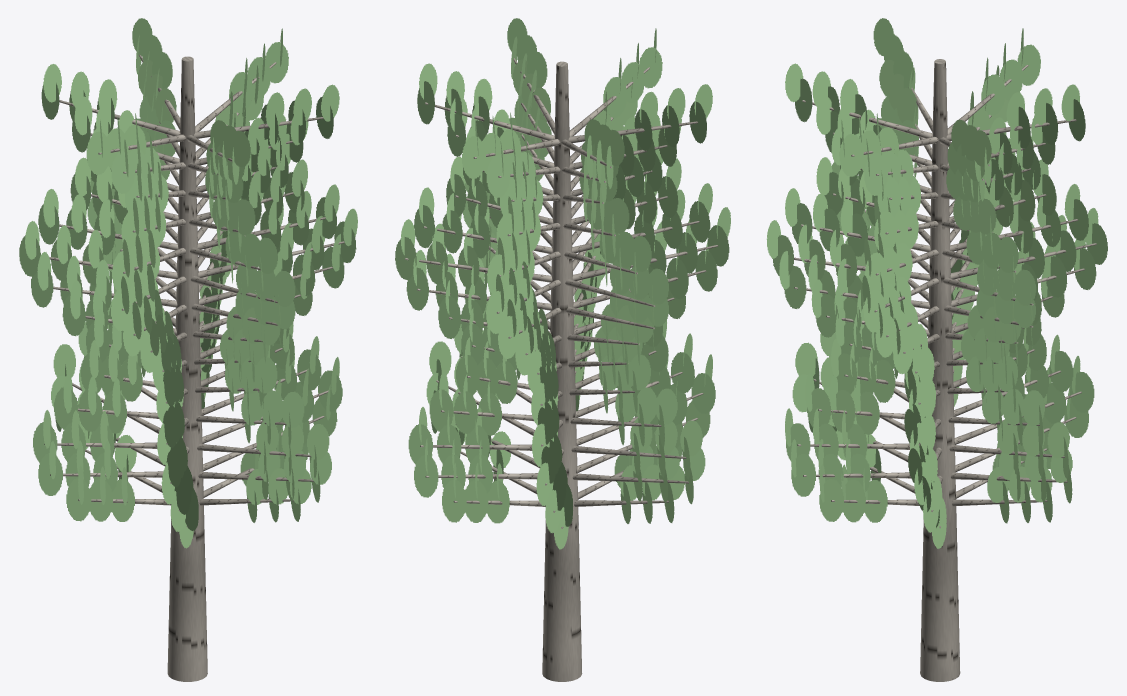
The model's file is tree_birch01.glb.
The picture shows the model from 3 angles, left to right: view 1: azimuth 30°, elevation 25°; view 2: azimuth 150°, elevation 25°; view 3: azimuth 270°, elevation 25°; orthographic projection.
Parts seen in each view (by area): view 1: foliage, branches, trunk; view 2: foliage, branches, trunk; view 3: foliage, branches, trunk.
Boxes of the visible parts, x1,y1,x2,y2 form: foliage: [19, 18, 357, 548]; branches: [44, 55, 344, 527]; trunk: [167, 56, 207, 681]; foliage: [395, 18, 730, 549]; branches: [405, 58, 718, 528]; trunk: [542, 61, 582, 681]; foliage: [766, 18, 1107, 548]; branches: [794, 65, 1096, 528]; trunk: [920, 59, 960, 681].
Size of the model in its own units: 4.04 by 8.08 by 4.19.
2 materials, 2 textured.
